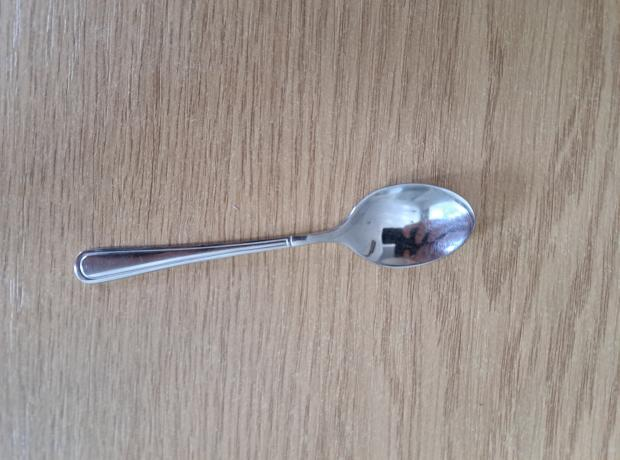metal: (70, 178, 473, 284)
